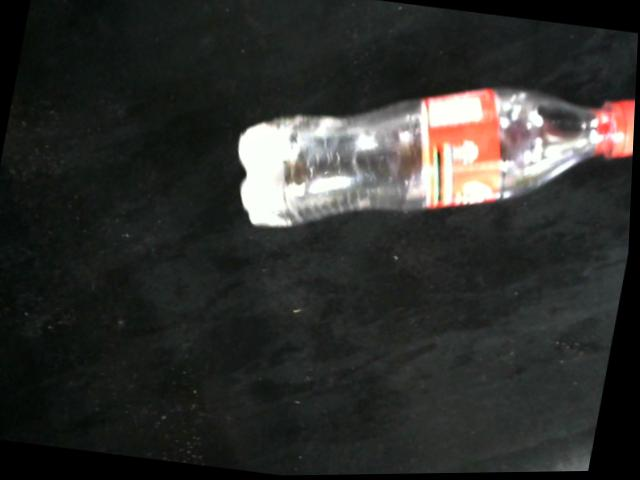bottle: (238, 87, 636, 230)
